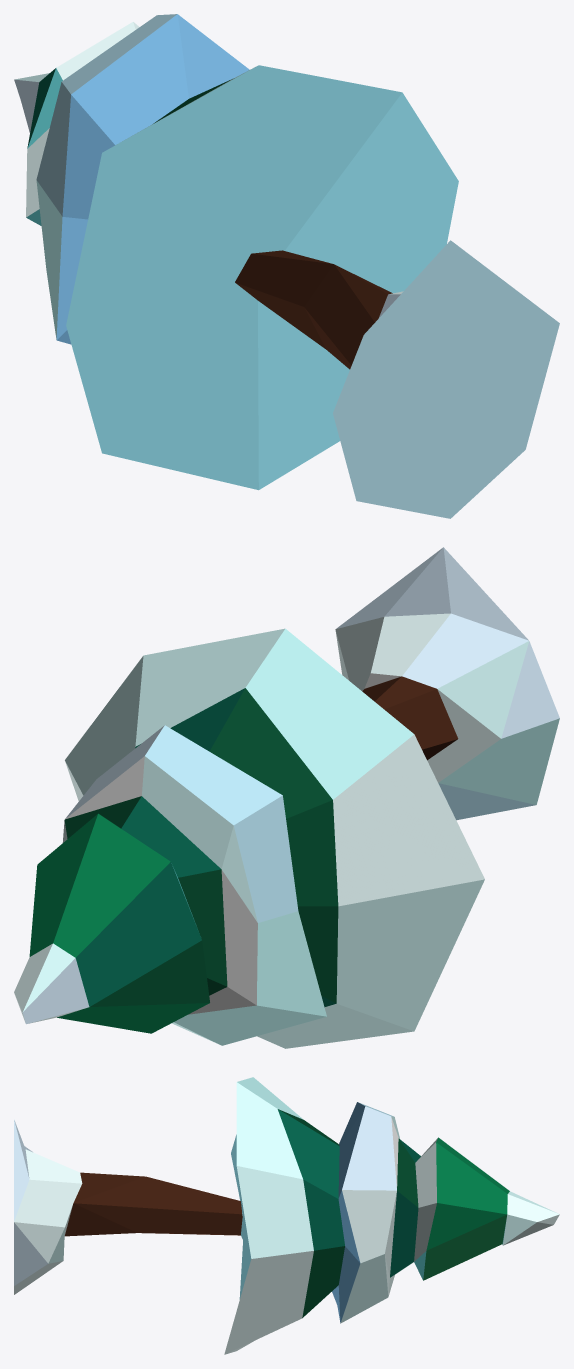
Rendered from winter_tree_1.fbx.
The picture shows the model from 3 angles, top to bottom: view 1: azimuth 30°, elevation 25°; view 2: azimuth 150°, elevation 25°; view 3: azimuth 270°, elevation 25°; orthographic projection. The views are drawn at different scales.
Parts seen in each view (by area): view 1: winter_tree_1; view 2: winter_tree_1; view 3: winter_tree_1.
Part boxes in pixels (<box>): winter_tree_1: <box>14,14,559,518</box>; winter_tree_1: <box>14,547,559,1048</box>; winter_tree_1: <box>14,1077,559,1354</box>.
Bounding box in the file's own units: 73.31 × 72.81 × 134.
